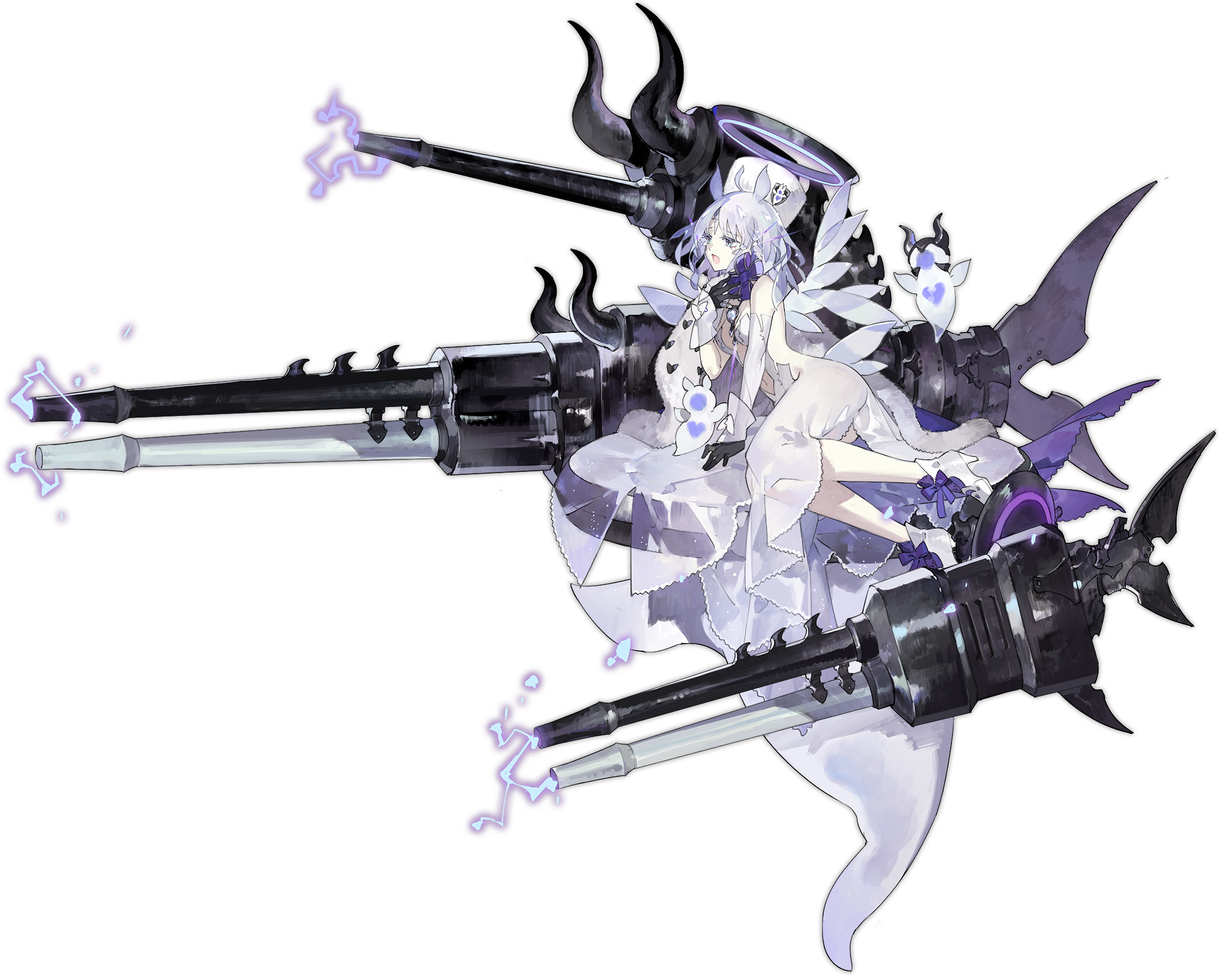person: (2, 0, 1218, 975)
